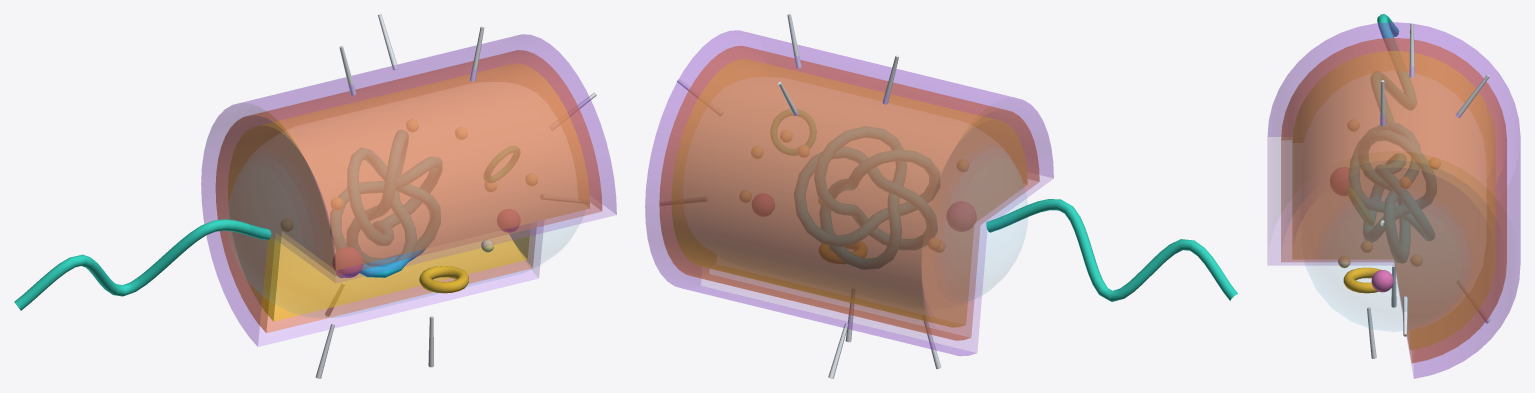
File: bacteria.glb
3 renders of one model, left to right at view 1: azimuth 30°, elevation 25°; view 2: azimuth 150°, elevation 25°; view 3: azimuth 270°, elevation 25°, orthographic. The views are drawn at different scales.
Parts seen in each view (by area): view 1: part_capsule, part_cell-wall, part_plasma-membrane, part_nucleoid, part_flagellum, part_pili, part_inclusion-bodies, part_mesosome, part_ribosomes, part_plasmid; view 2: part_capsule, part_cell-wall, part_plasma-membrane, part_nucleoid, part_flagellum, part_pili, part_inclusion-bodies, part_ribosomes, part_plasmid; view 3: part_capsule, part_cell-wall, part_plasma-membrane, part_nucleoid, part_pili, part_flagellum, part_inclusion-bodies, part_mesosome, part_ribosomes, part_plasmid.
Part boxes in pixels (x1=…): part_capsule: x1=201, y1=34, x2=616, y2=346; part_cell-wall: x1=215, y1=50, x2=602, y2=332; part_plasma-membrane: x1=228, y1=63, x2=589, y2=321; part_nucleoid: x1=330, y1=130, x2=441, y2=277; part_flagellum: x1=14, y1=219, x2=271, y2=310; part_pili: x1=315, y1=14, x2=596, y2=378; part_inclusion-bodies: x1=333, y1=209, x2=519, y2=277; part_mesosome: x1=419, y1=266, x2=468, y2=293; part_ribosomes: x1=281, y1=119, x2=537, y2=278; part_plasmid: x1=484, y1=146, x2=519, y2=182; part_capsule: x1=645, y1=30, x2=1053, y2=355; part_cell-wall: x1=659, y1=46, x2=1039, y2=340; part_plasma-membrane: x1=671, y1=59, x2=1027, y2=327; part_nucleoid: x1=794, y1=126, x2=939, y2=269; part_flagellum: x1=986, y1=199, x2=1237, y2=301; part_pili: x1=660, y1=14, x2=941, y2=378; part_inclusion-bodies: x1=752, y1=194, x2=975, y2=231; part_ribosomes: x1=740, y1=130, x2=968, y2=252; part_plasmid: x1=771, y1=110, x2=815, y2=155; part_capsule: x1=1267, y1=22, x2=1520, y2=378; part_cell-wall: x1=1281, y1=37, x2=1506, y2=363; part_plasma-membrane: x1=1292, y1=51, x2=1495, y2=349; part_nucleoid: x1=1349, y1=123, x2=1436, y2=262; part_pili: x1=1367, y1=23, x2=1490, y2=358; part_flagellum: x1=1371, y1=14, x2=1416, y2=122; part_inclusion-bodies: x1=1330, y1=167, x2=1393, y2=292; part_mesosome: x1=1343, y1=267, x2=1380, y2=293; part_ribosomes: x1=1338, y1=120, x2=1440, y2=268; part_plasmid: x1=1347, y1=188, x2=1372, y2=225.
Bounding box in the file's own units: 2.79 × 1.48 × 1.12.
